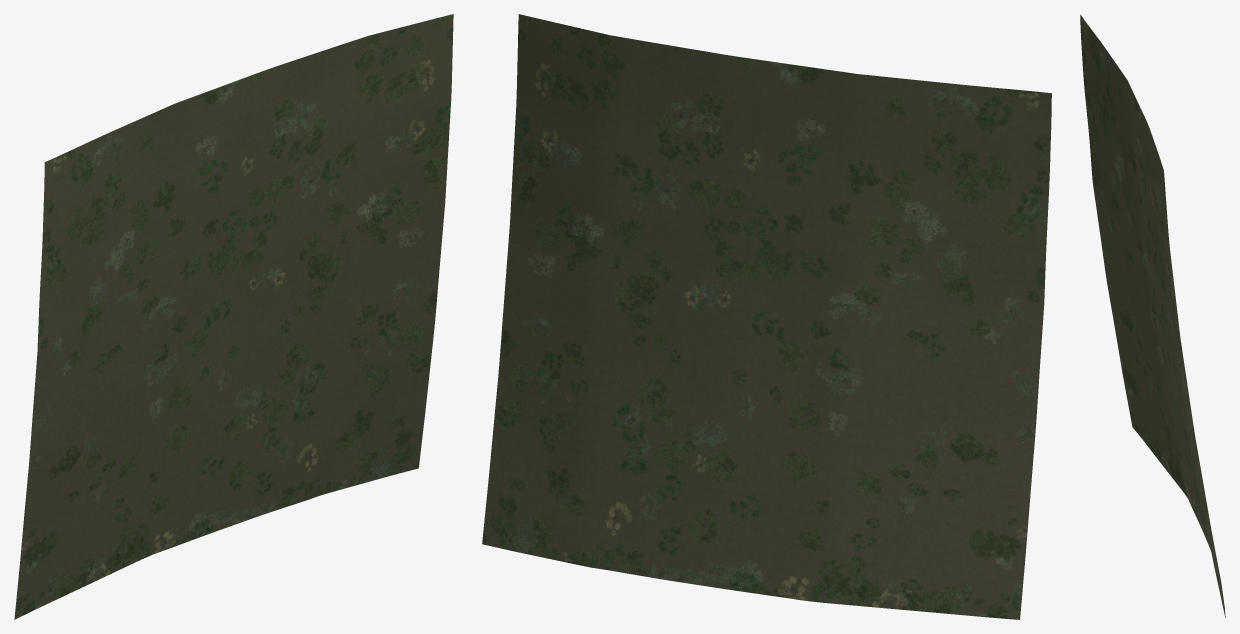
The model's file is terrain_near_07_08.obj.
The picture shows the model from 3 angles, left to right: view 1: azimuth 30°, elevation 25°; view 2: azimuth 150°, elevation 25°; view 3: azimuth 270°, elevation 25°; orthographic projection. The views are drawn at different scales.
Parts seen in each view (by area): view 1: terrain_near_07_08; view 2: terrain_near_07_08; view 3: terrain_near_07_08.
Part boxes in pixels (left/top/right/bottom): terrain_near_07_08: left=14, top=14, right=453, bottom=619; terrain_near_07_08: left=482, top=14, right=1051, bottom=619; terrain_near_07_08: left=1080, top=14, right=1225, bottom=618.
Size of the model in its own units: 64 by 64 by 20.44.
Materials: 1 (1 with a texture image).
